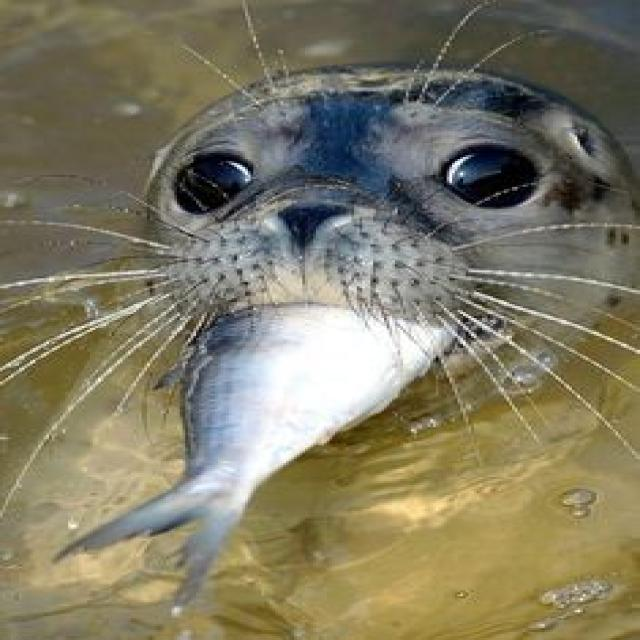Carnivorous: (142, 68, 640, 415)
